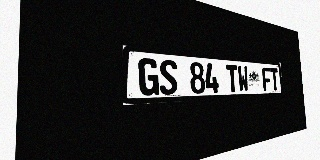4: (204, 63, 219, 93)
8: (189, 62, 205, 94)
F: (262, 67, 271, 91)
G: (138, 58, 159, 96)
S: (159, 59, 178, 95)
T: (226, 64, 239, 92), (270, 68, 279, 91)
W: (237, 65, 249, 92)
